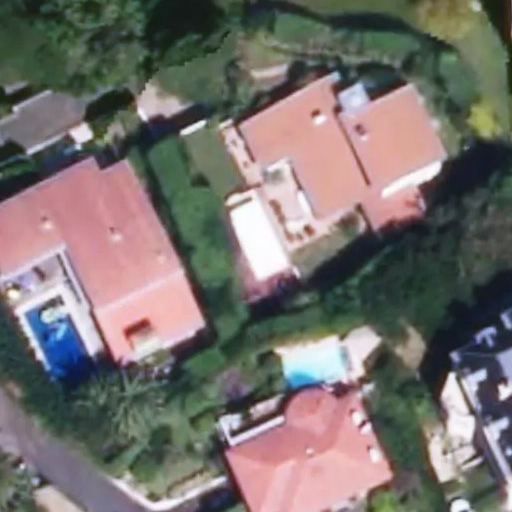pool: (230, 219, 281, 264)
